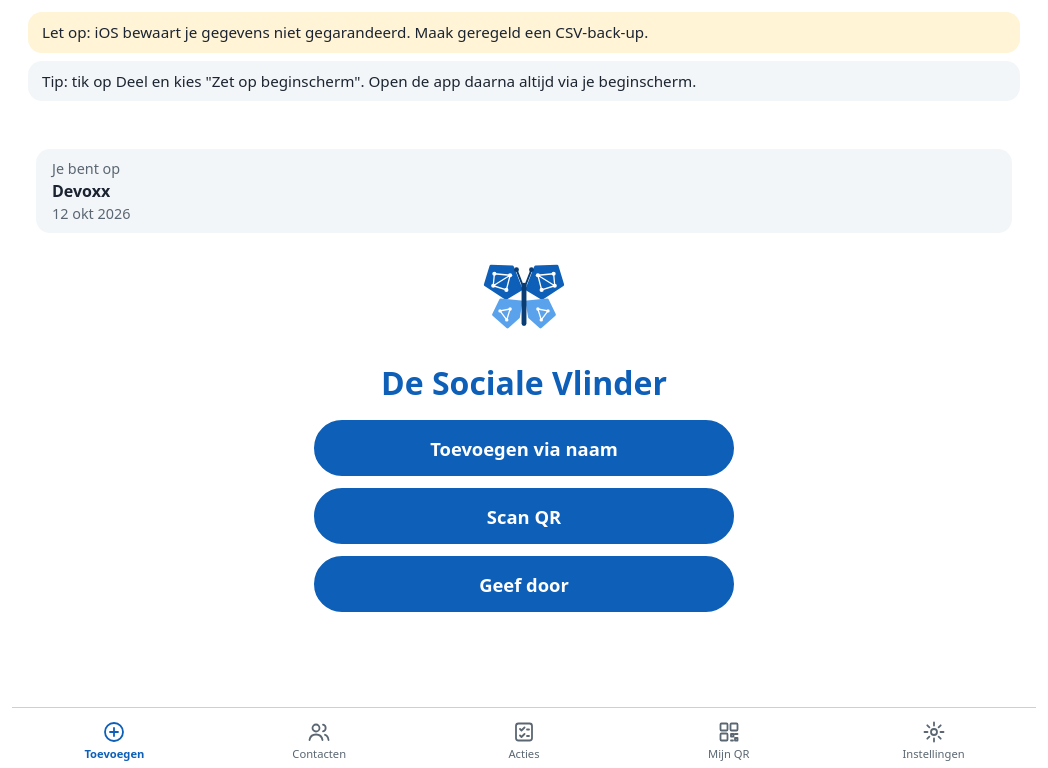
US1 — the guest types their own name › shows no tab bar, Event name or banners (FR-008)
The width and height of the screenshot is (1048, 768).
Expected: the text "Devoxx" is shown, [52, 180, 110, 202]
Expected: the text "Tip: tik op Deel en kies \"Zet op beginscherm\". Open de app daarna altijd via je beginscherm." is shown, [42, 70, 696, 90]
Click the button "Geef door": x=524, y=584 [314, 556, 734, 612]
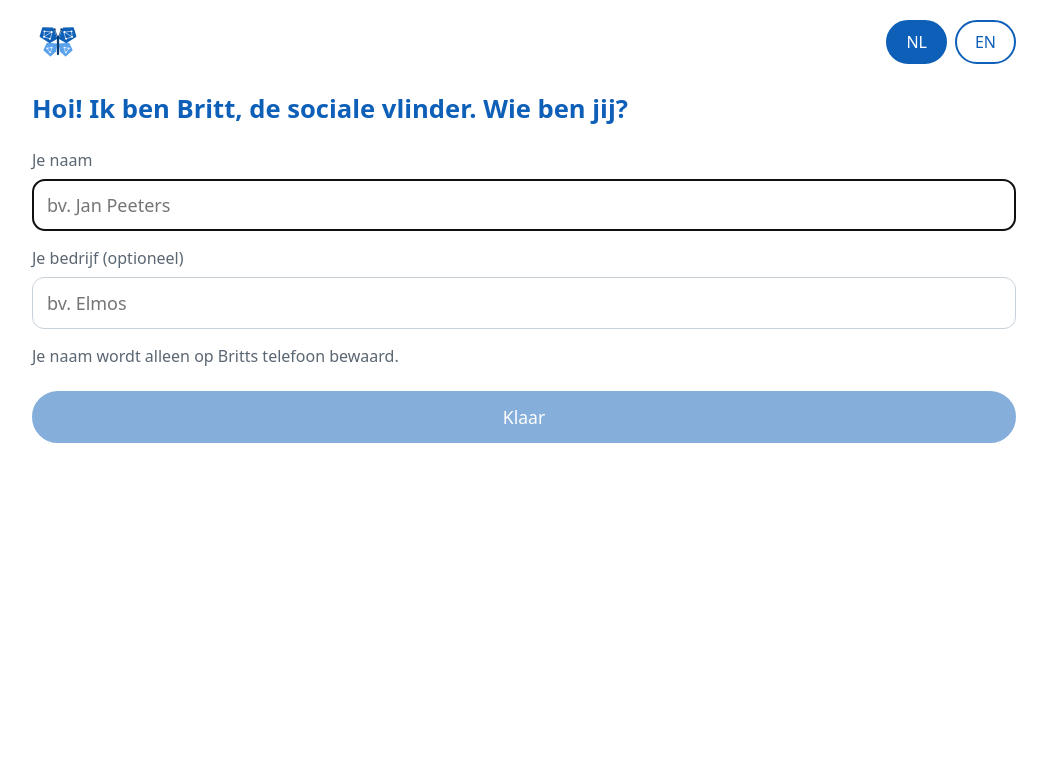
Result: the navigation bar is gone
Result: the button "Devoxx" is gone
Result: the text "Tip: tik op Deel en kies \"Zet op beginscherm\". Open de app daarna altijd via je beginscherm." is gone
